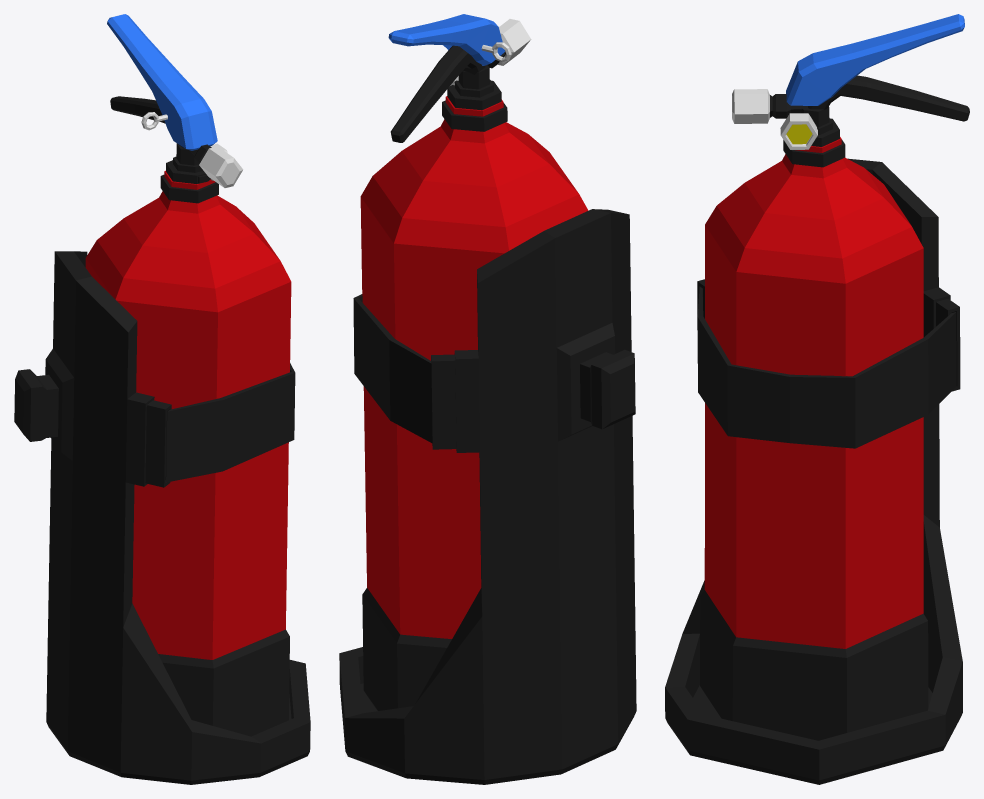
3 views of the same model, side by side, from view 1: azimuth 30°, elevation 25°; view 2: azimuth 150°, elevation 25°; view 3: azimuth 270°, elevation 25° (orthographic). The views are drawn at different scales.
Parts seen in each view (by area): view 1: Extinguisher, ExtinguisherHolder, Handle; view 2: ExtinguisherHolder, Extinguisher, Handle; view 3: Extinguisher, ExtinguisherHolder, Handle.
Boxes of the visible parts, x1,y1,x2,y2 form: Extinguisher: (85, 96, 291, 736); ExtinguisherHolder: (14, 251, 310, 784); Handle: (107, 14, 217, 150); ExtinguisherHolder: (339, 209, 636, 784); Extinguisher: (360, 19, 588, 710); Handle: (388, 14, 504, 65); Extinguisher: (700, 75, 969, 740); ExtinguisherHolder: (665, 158, 962, 784); Handle: (786, 14, 964, 105).
Size of the model in its own units: 1.6 by 3.73 by 1.46.
